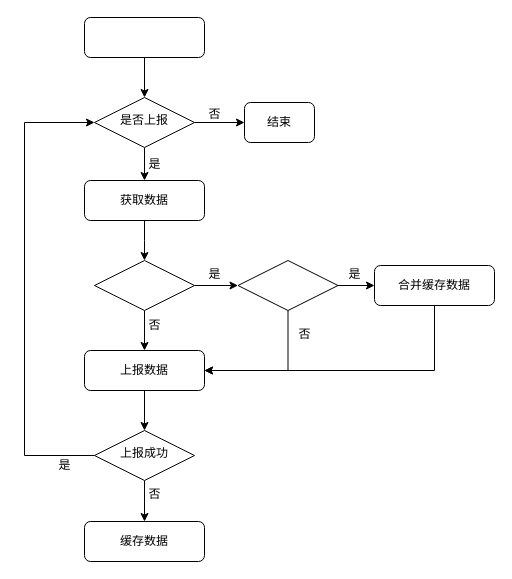
This 512x579 diagram has some shape labels left out. Here are the shapes that lost their labels. From the top down, the centre of each, then its label:
At point (144, 37): "飞机起飞".
At point (144, 285): "上次上报 是否成功".
At point (287, 285): "是否有 缓存数据".
